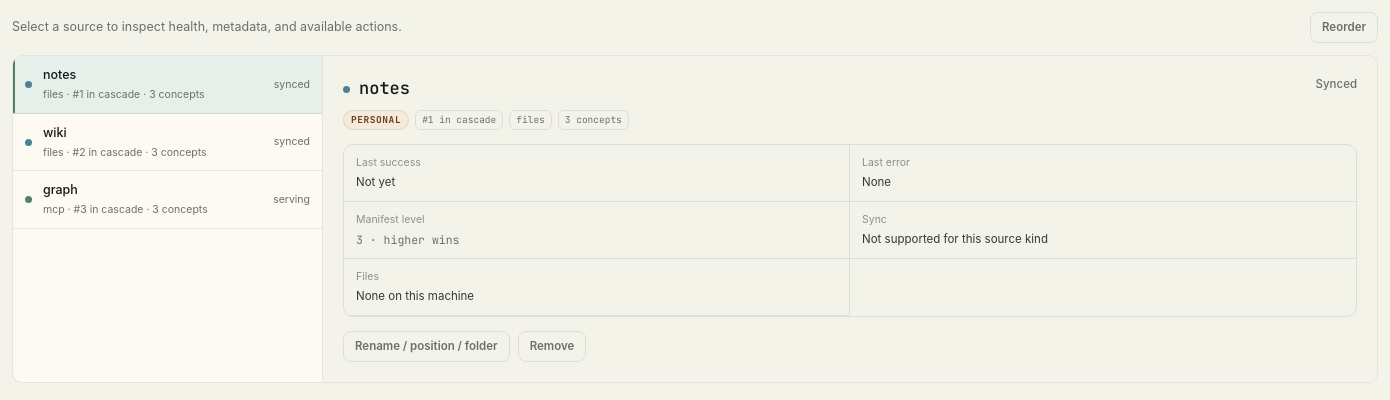
Test: Sources rows › shows the cascade position everywhere and the raw manifest level in exactly one place
The image size is (1390, 400).
Click the option "wiki files · #2 in cascade · 3 concepts synced" at coordinates (168, 143), box [13,114,322,171]
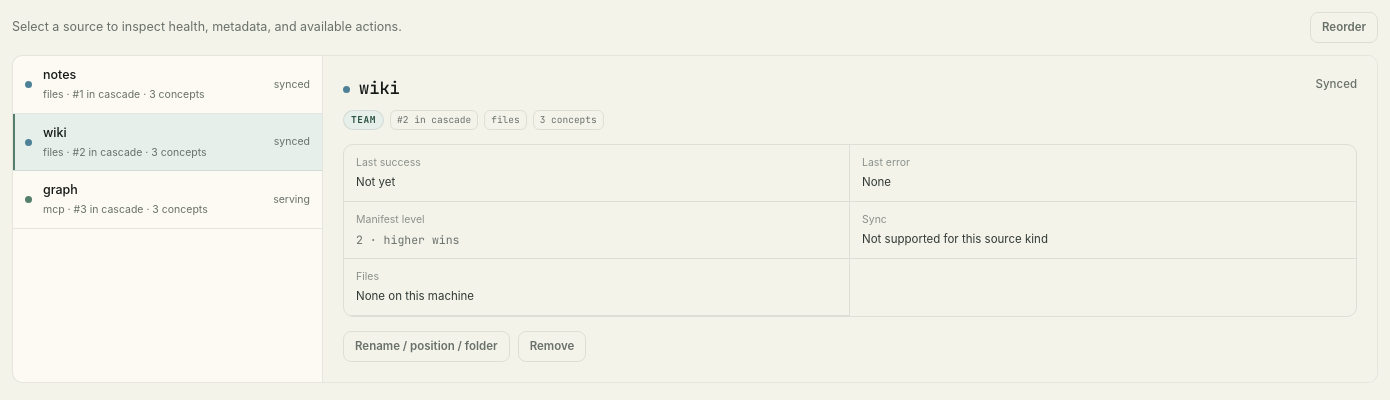
Expected: the text "2 · higher wins" is shown, [356,232,460,247]
